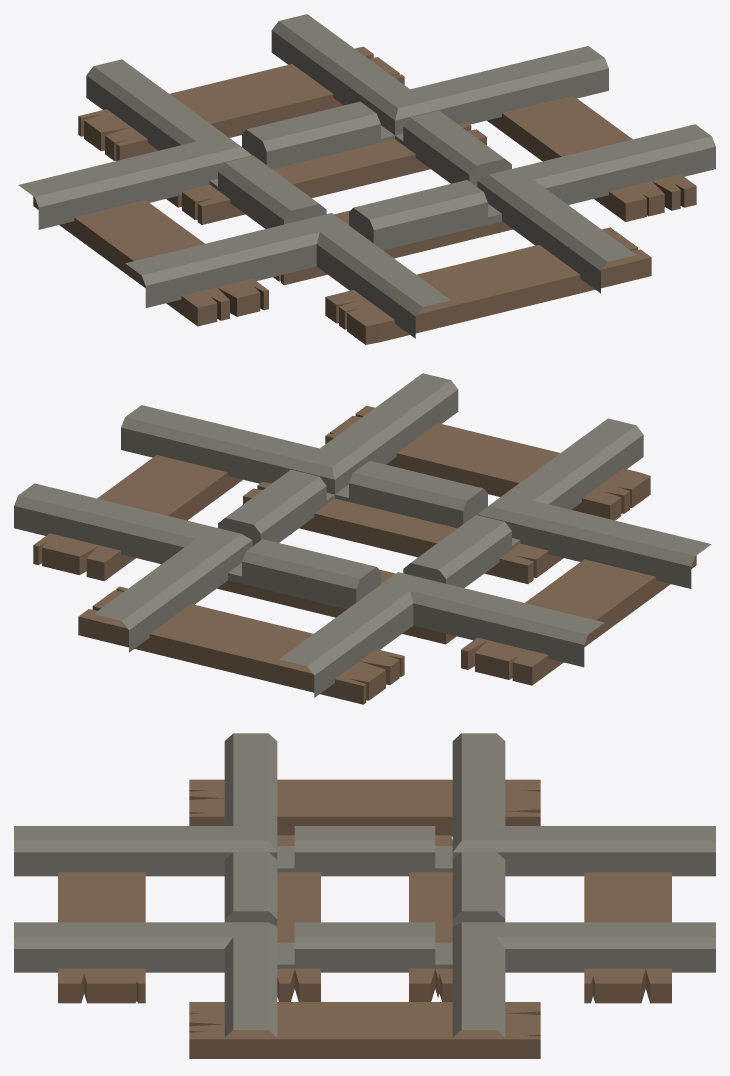
The model's file is Cave_Prop_Railway_Intersection.glb.
3 views of the same model, one above another, from view 1: azimuth 30°, elevation 25°; view 2: azimuth 150°, elevation 25°; view 3: azimuth 270°, elevation 25° (orthographic). The views are drawn at different scales.
Visible parts, largest first — view 1: Cave_Prop_Railway_Intersection; view 2: Cave_Prop_Railway_Intersection; view 3: Cave_Prop_Railway_Intersection.
Boxes of the visible parts, x1,y1,x2,y2 form: Cave_Prop_Railway_Intersection: (18,14,715,344); Cave_Prop_Railway_Intersection: (14,373,711,704); Cave_Prop_Railway_Intersection: (14,733,715,1058).
Size of the model in its own units: 2 by 0.15 by 2.
